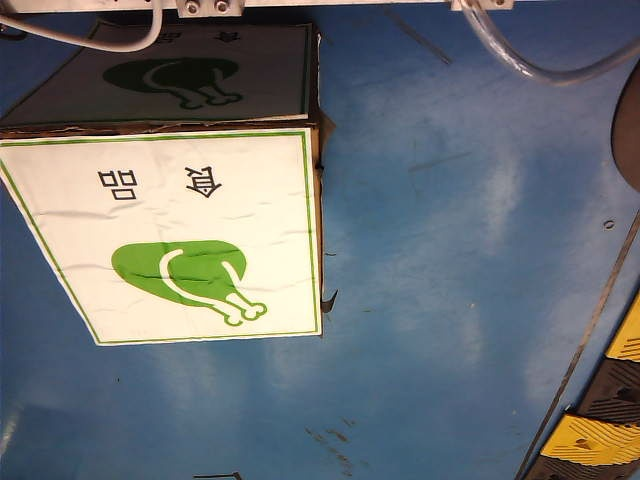Cube_food: (94, 156, 271, 334)
